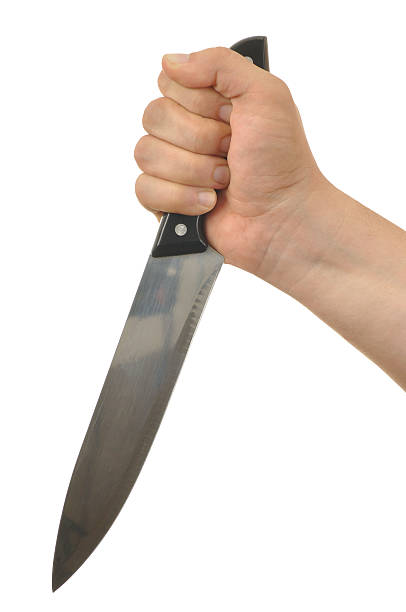knife: (49, 33, 270, 597)
